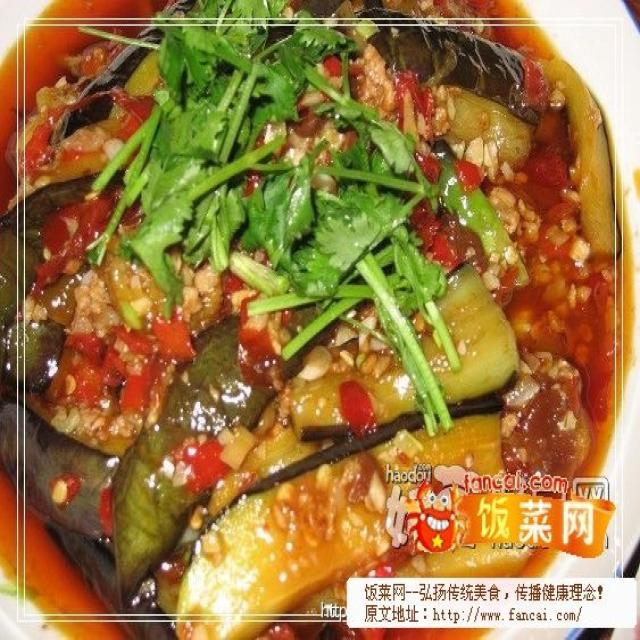鸡蛋料理: (24, 26, 599, 626)
